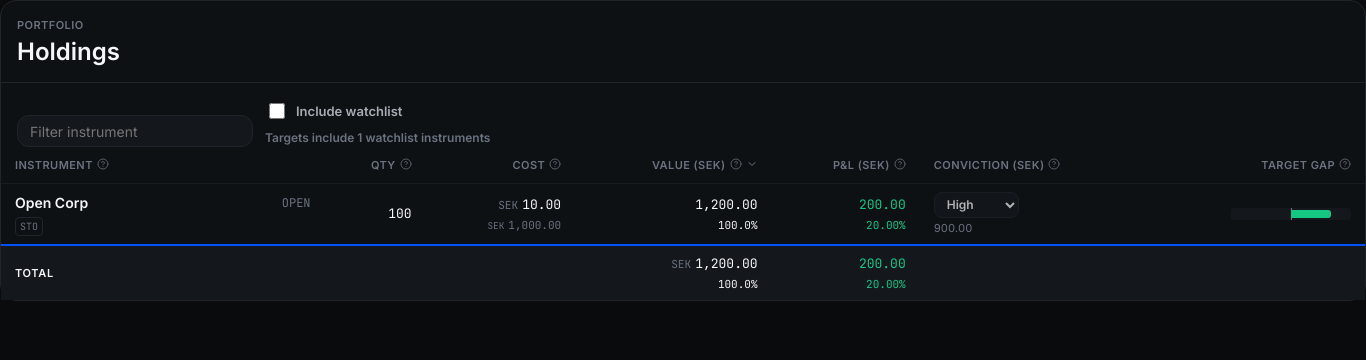
Test: HoldingsPage › shows and hides watchlist rows from the include-watchlist toggle
Expected: the link "Open Corp" is shown, [15,194,88,211]
Expected: the link "watch co" is not shown
Step 1. Click the checkbox labelled "Include watchlist" → (277, 111), box [269,103,285,119]
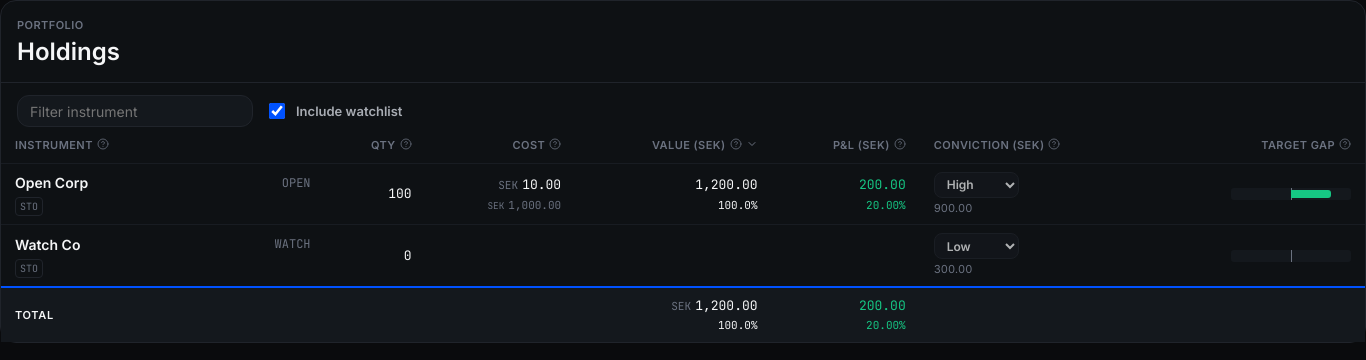
Expected: the checkbox labelled "Include watchlist" is checked, [269,103,285,119]
Expected: the link "Watch Co" is shown, [15,236,80,252]
Expected: the text "Targets include 1 watchlist instruments" is gone
